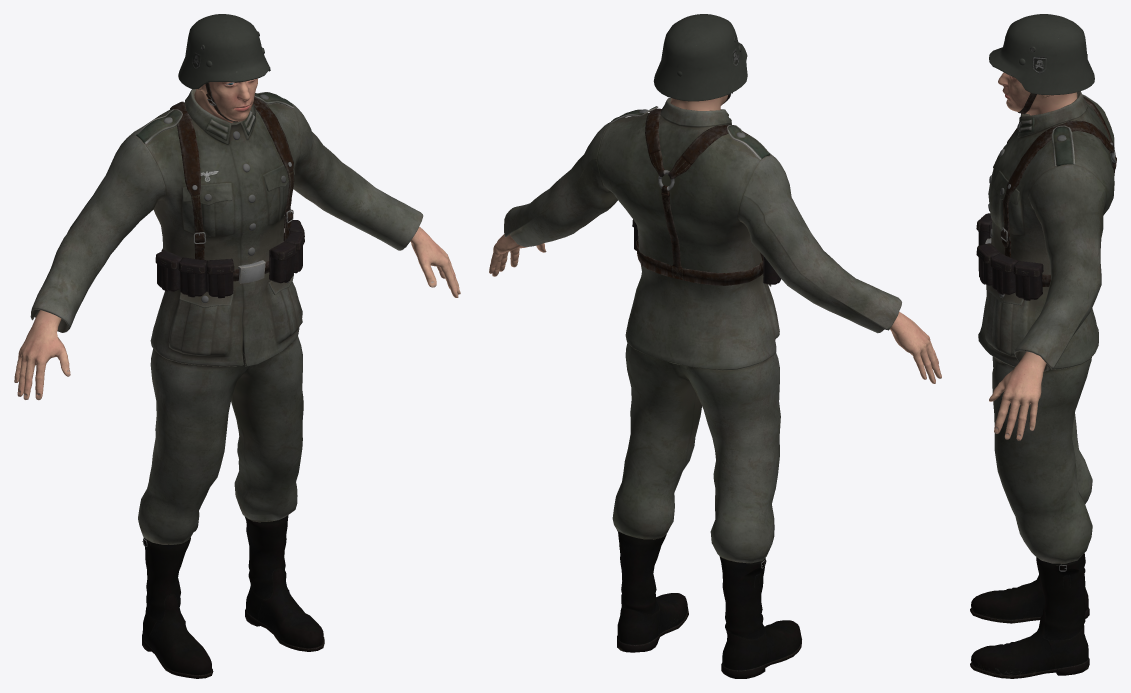
3 renders of one model, left to right at view 1: azimuth 30°, elevation 25°; view 2: azimuth 150°, elevation 25°; view 3: azimuth 270°, elevation 25°, orthographic.
Parts seen in each view (by area): view 1: Cylinder.049, Cylinder.023, BlendMann.003; view 2: Cylinder.049, Cylinder.023, BlendMann.003; view 3: Cylinder.049, Cylinder.023, BlendMann.003.
Boxes of the visible parts, bbox=[...] form: Cylinder.049: bbox=[30, 89, 423, 678]; Cylinder.023: bbox=[155, 14, 304, 298]; BlendMann.003: bbox=[14, 78, 460, 400]; Cylinder.049: bbox=[504, 98, 901, 678]; Cylinder.023: bbox=[632, 14, 781, 285]; BlendMann.003: bbox=[489, 95, 941, 383]; Cylinder.049: bbox=[970, 91, 1114, 678]; Cylinder.023: bbox=[976, 14, 1116, 300]; BlendMann.003: bbox=[989, 72, 1077, 440].
Size of the model in its own units: 1.47 by 2 by 0.428.
4 materials, 4 textured.
